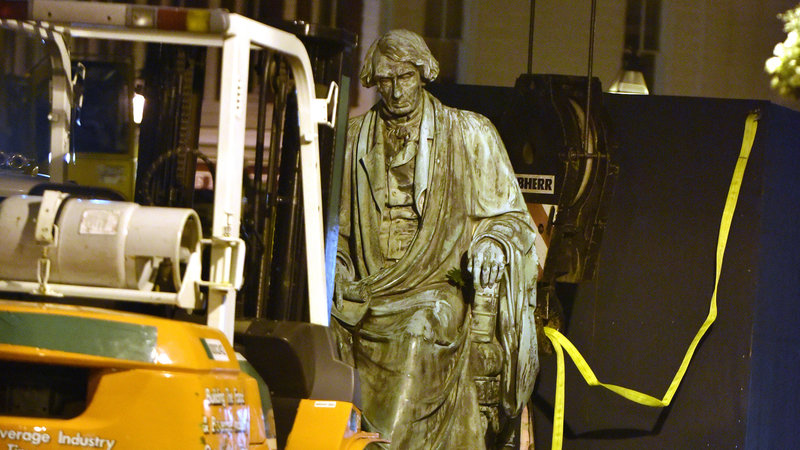person-like: (323, 20, 547, 450)
